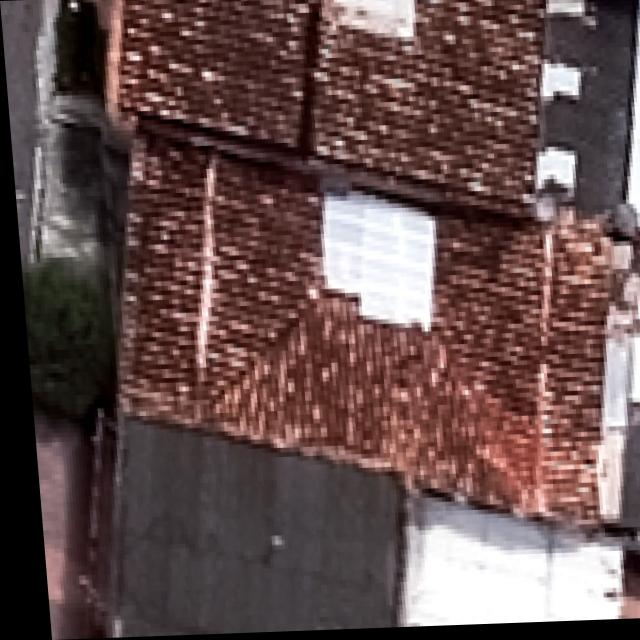Batiment: (114, 133, 607, 523), (116, 0, 546, 219)
